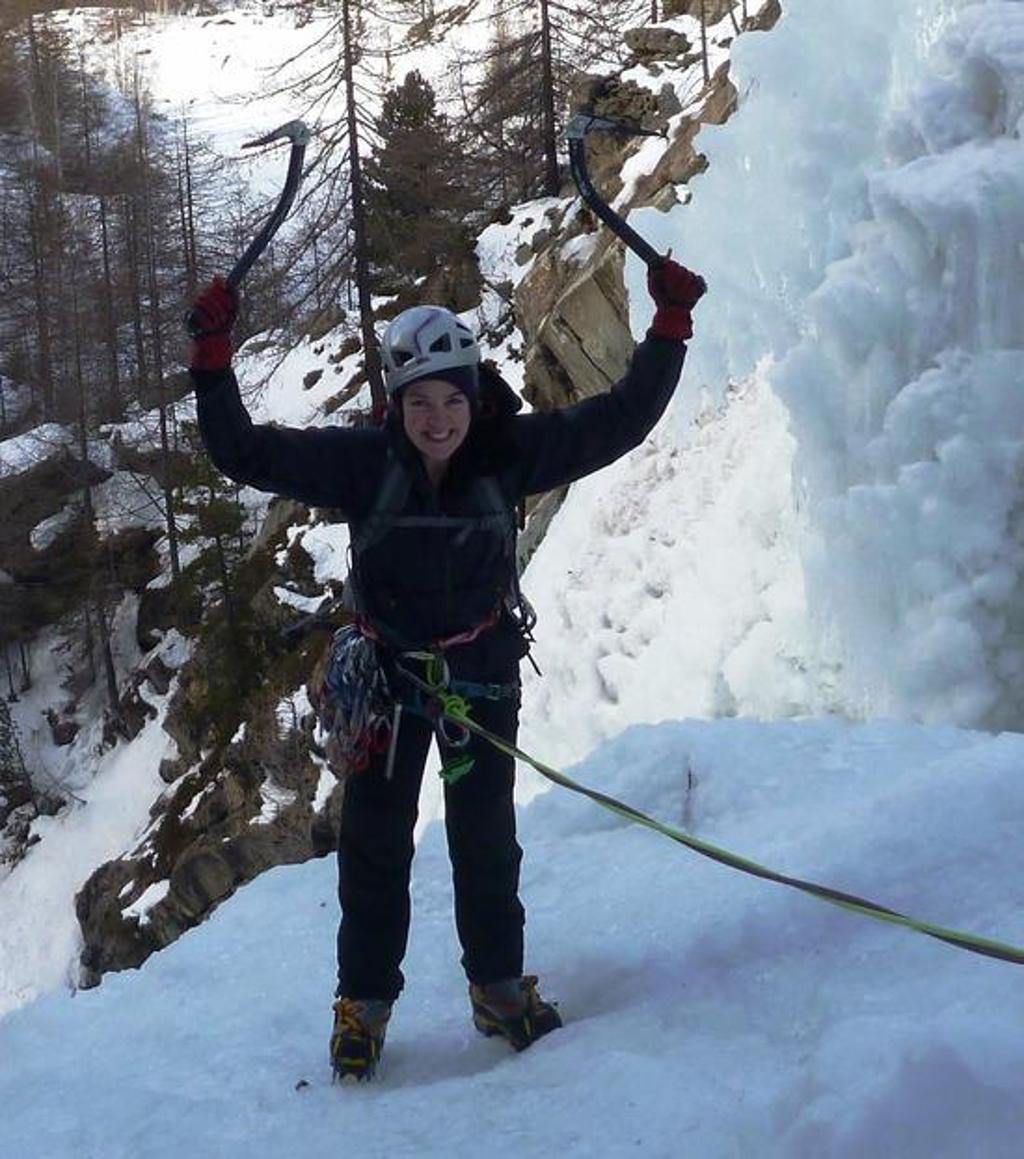face: (403, 367, 471, 460)
